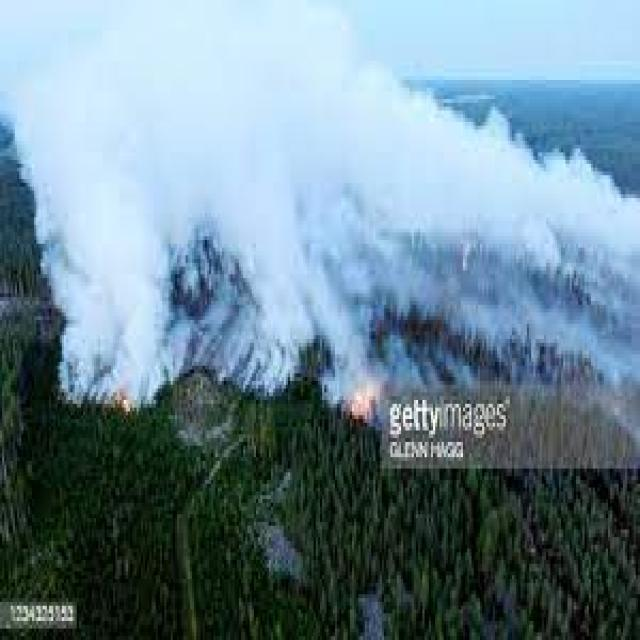Fire: (344, 371, 378, 429)
Smoke: (0, 0, 638, 369), (0, 0, 181, 436), (185, 9, 322, 412), (334, 0, 382, 436)
